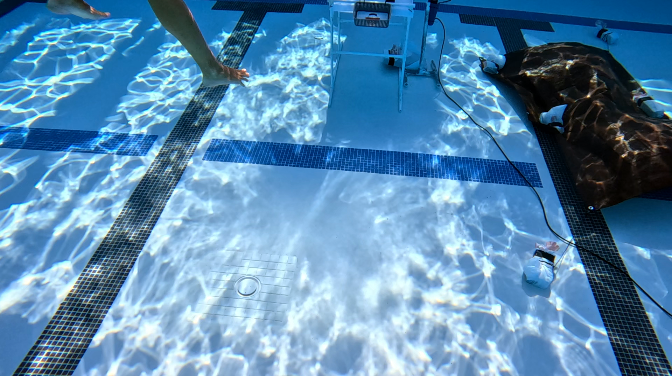sandbag: (479, 41, 671, 208), (524, 237, 556, 286), (595, 25, 618, 44)
